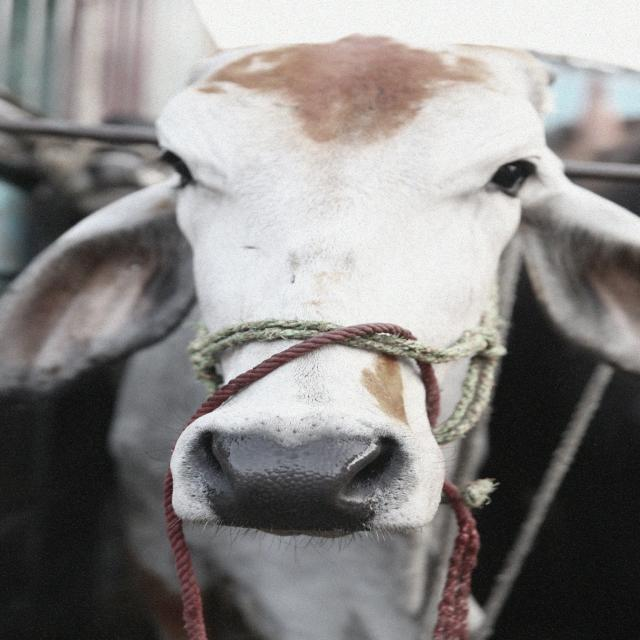muzzles: (180, 419, 412, 537)
